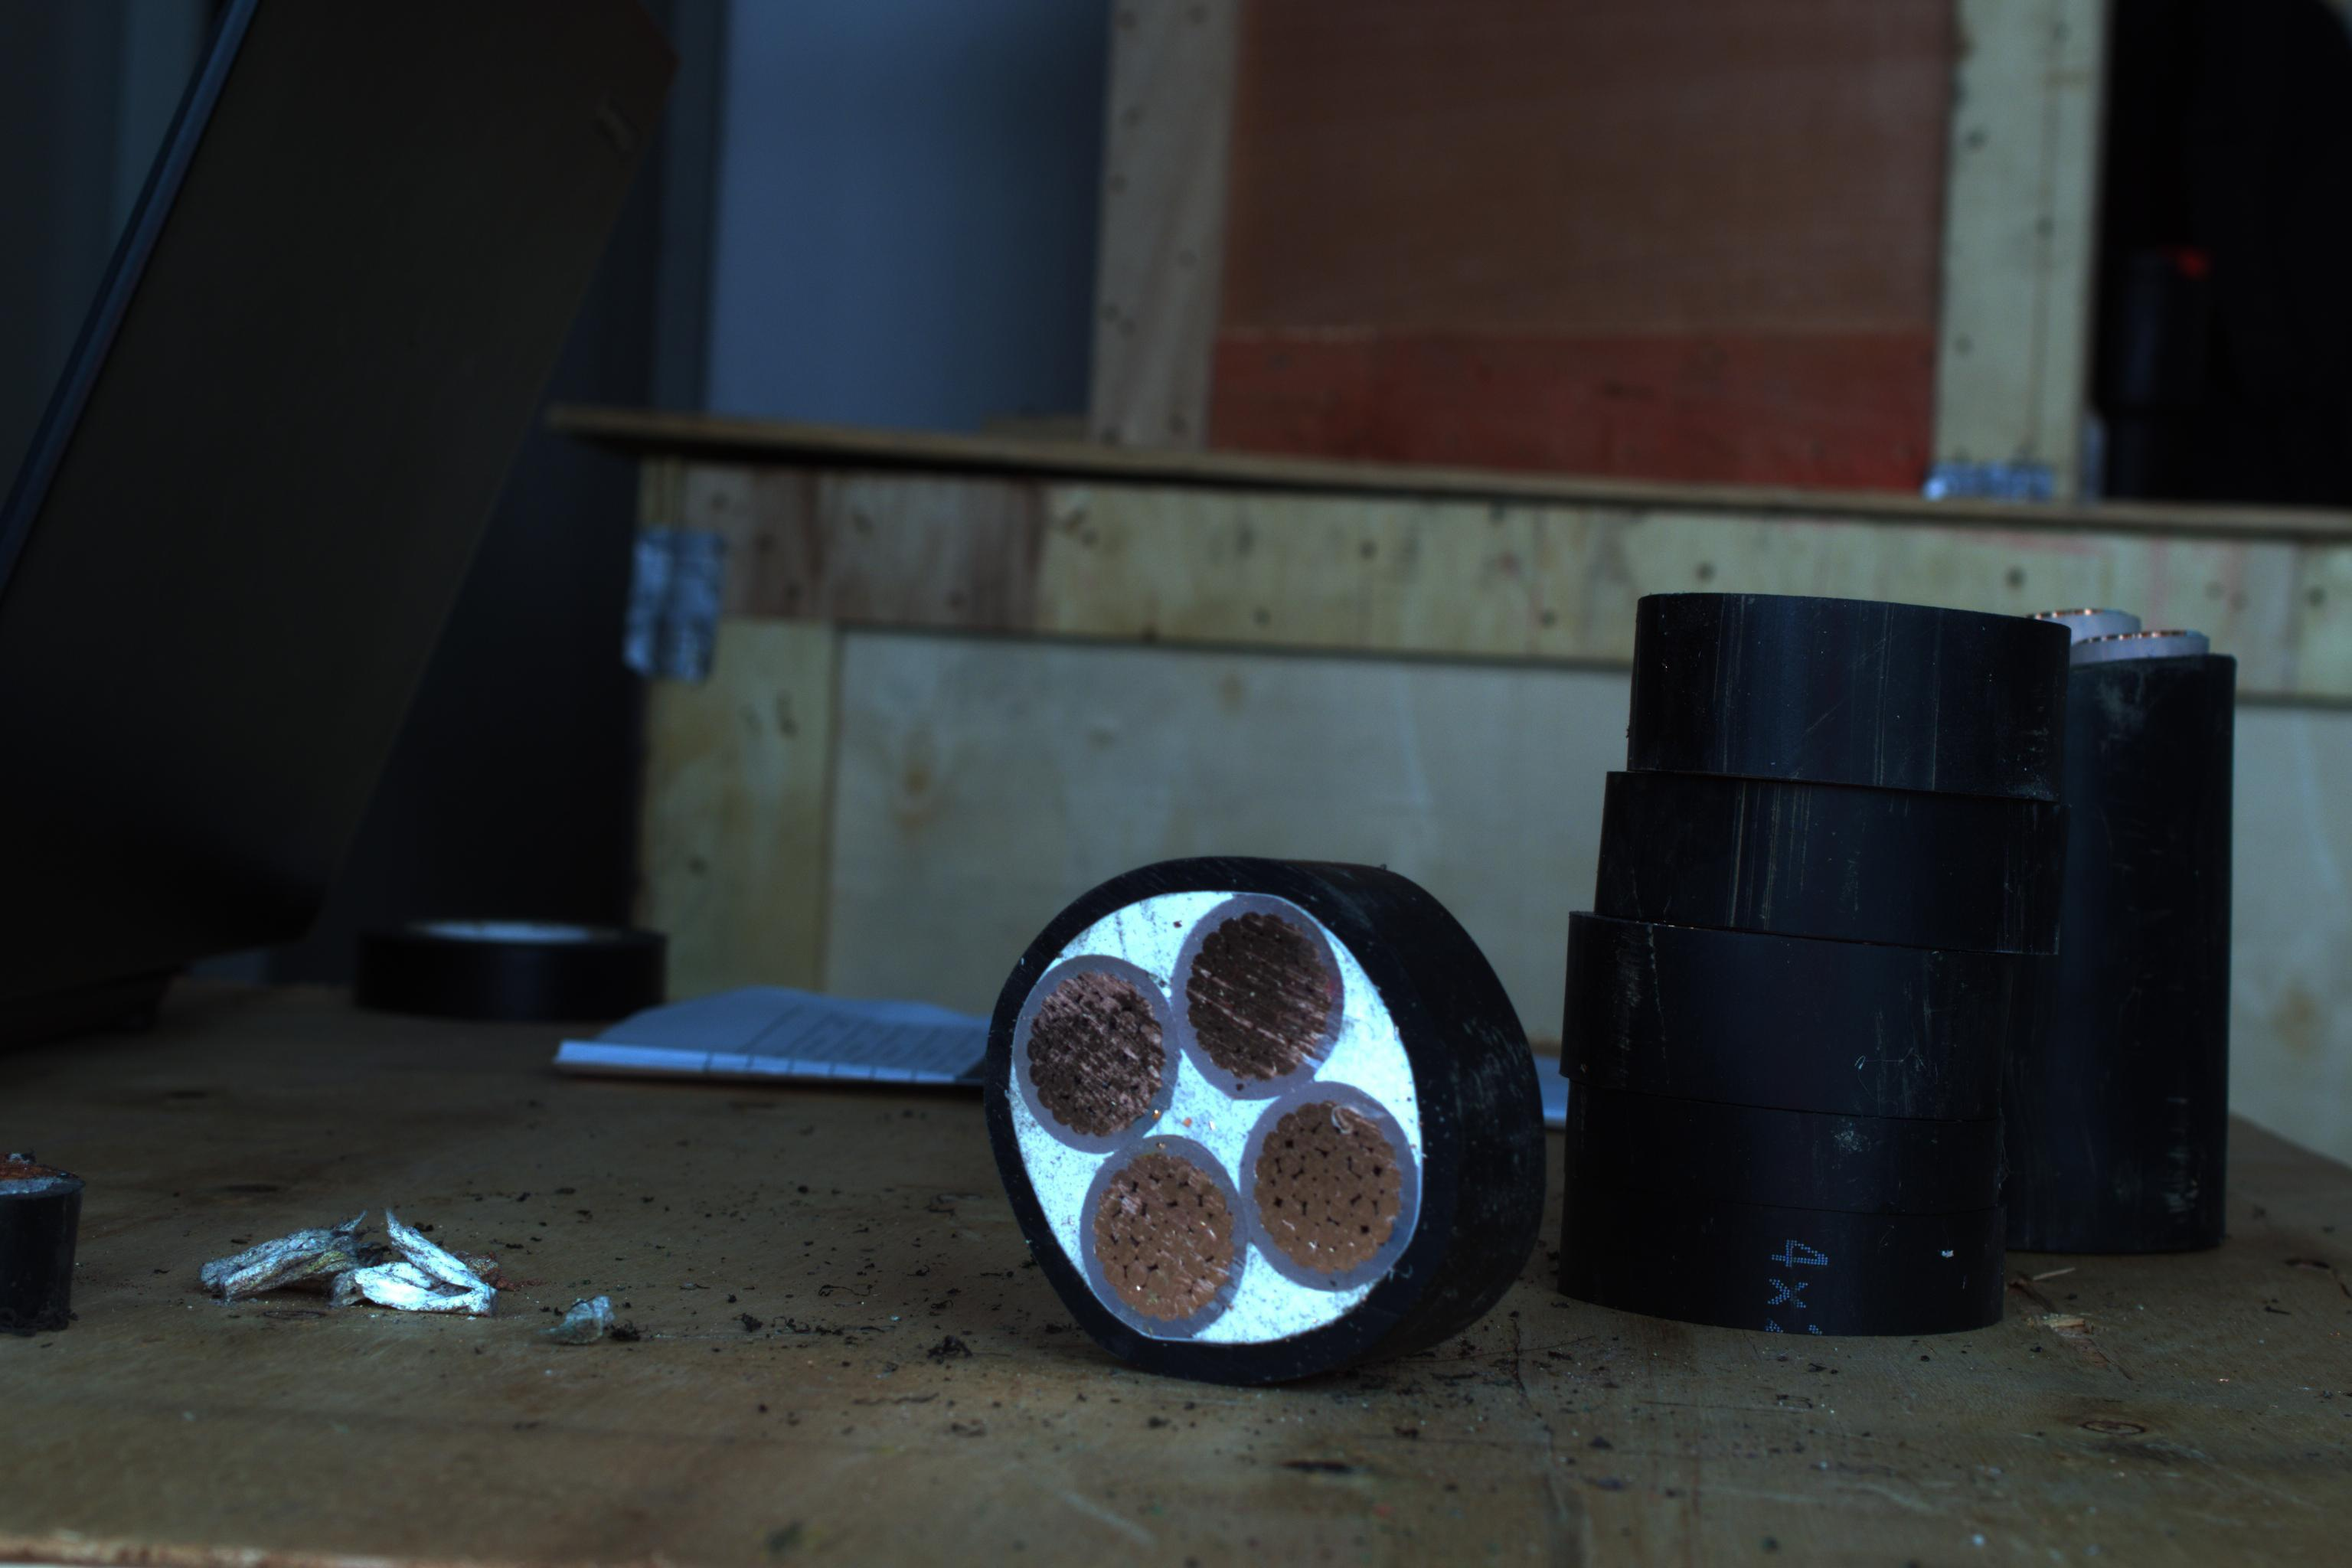YJV_0.6_1kV_4x240: (978, 850, 1449, 1379)
